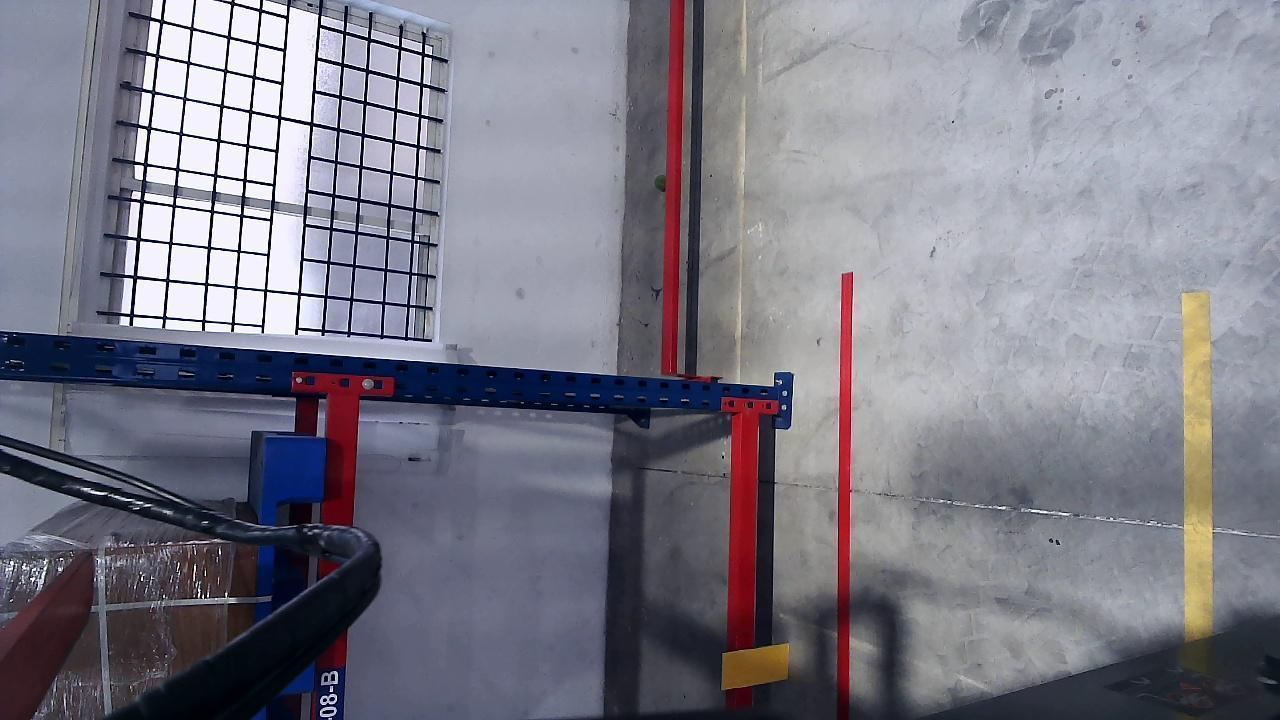red_line: (834, 271, 855, 717)
yellow_line: (1182, 298, 1215, 635)
